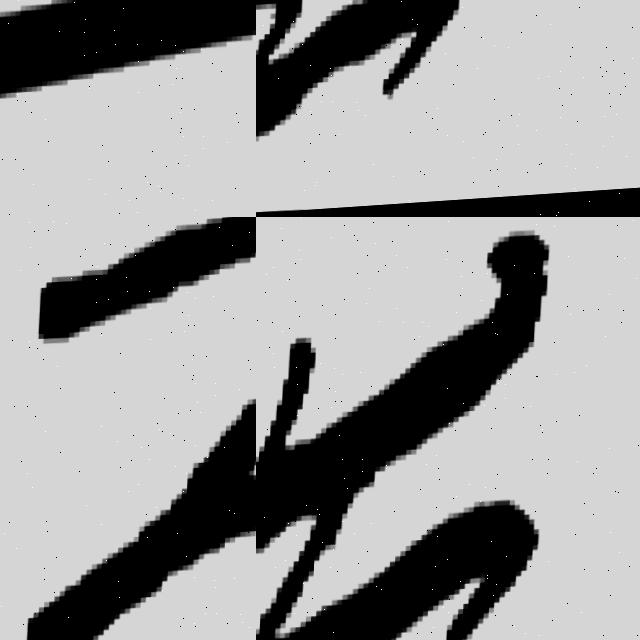M: (256, 0, 487, 148)
N: (256, 306, 569, 640)
U: (13, 217, 256, 640), (0, 0, 256, 217)
